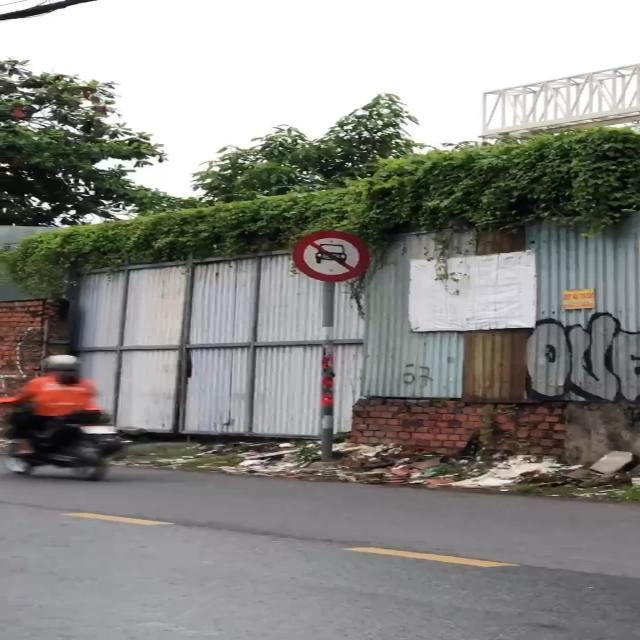Bien bao cam xe oto: (287, 228, 373, 284)
